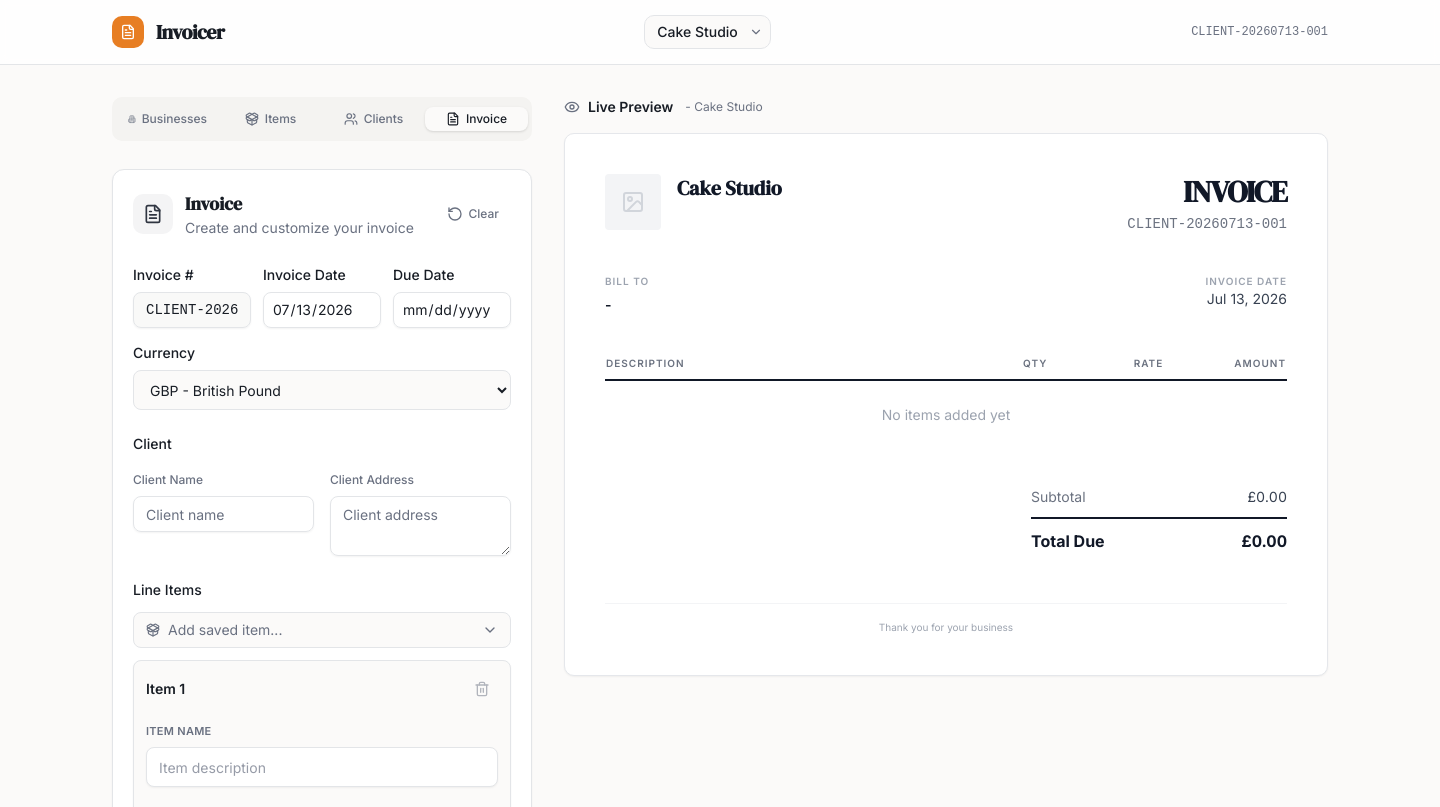
Scenario: InvoiceApp catalogue integration › returns a linked invoice line to Save item when its catalogue item is deleted
Click the button "Add saved item..." at (225, 630), box [133,612,511,648]
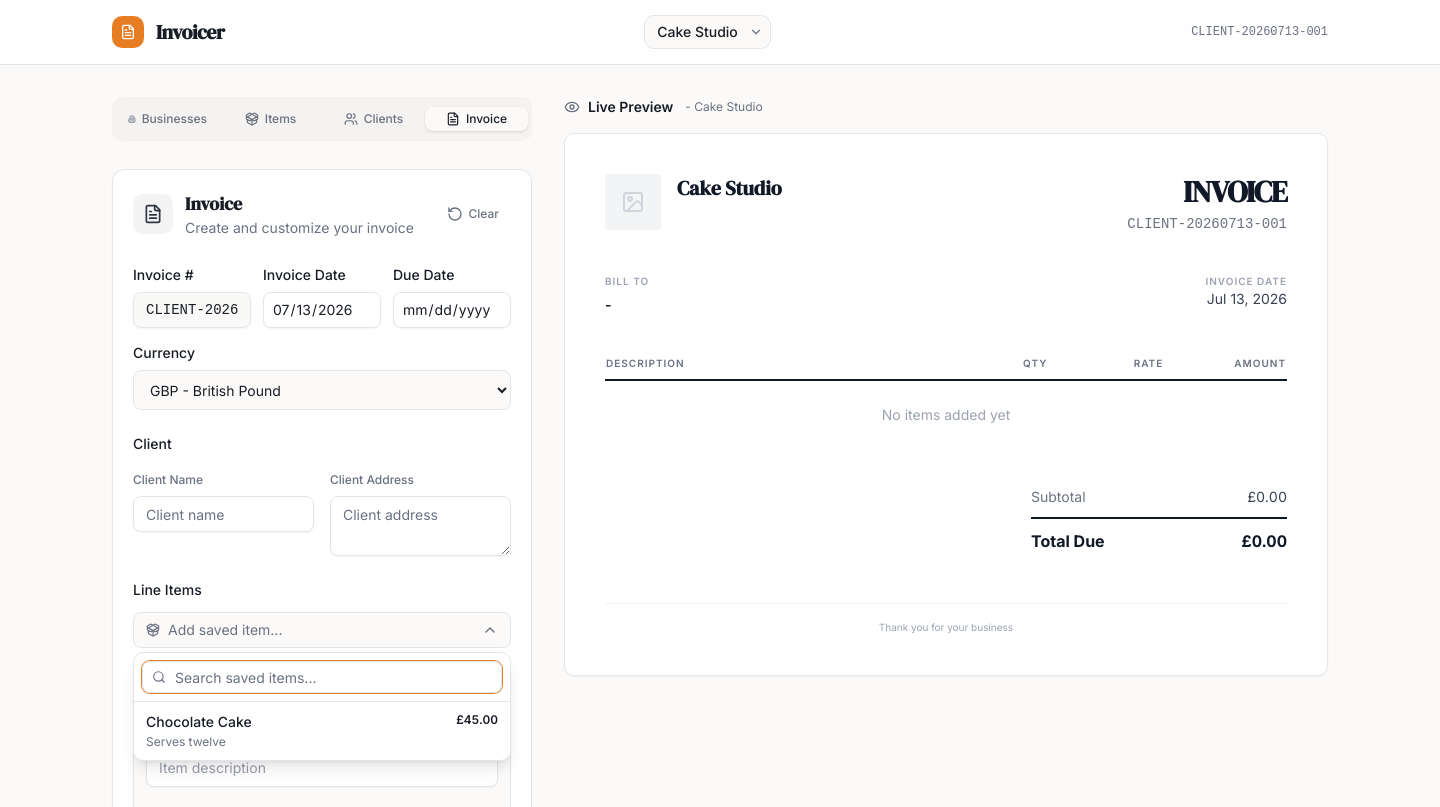
Click the option "Chocolate Cake Serves twelve £45.00" at (199, 722), box [134,702,510,760]
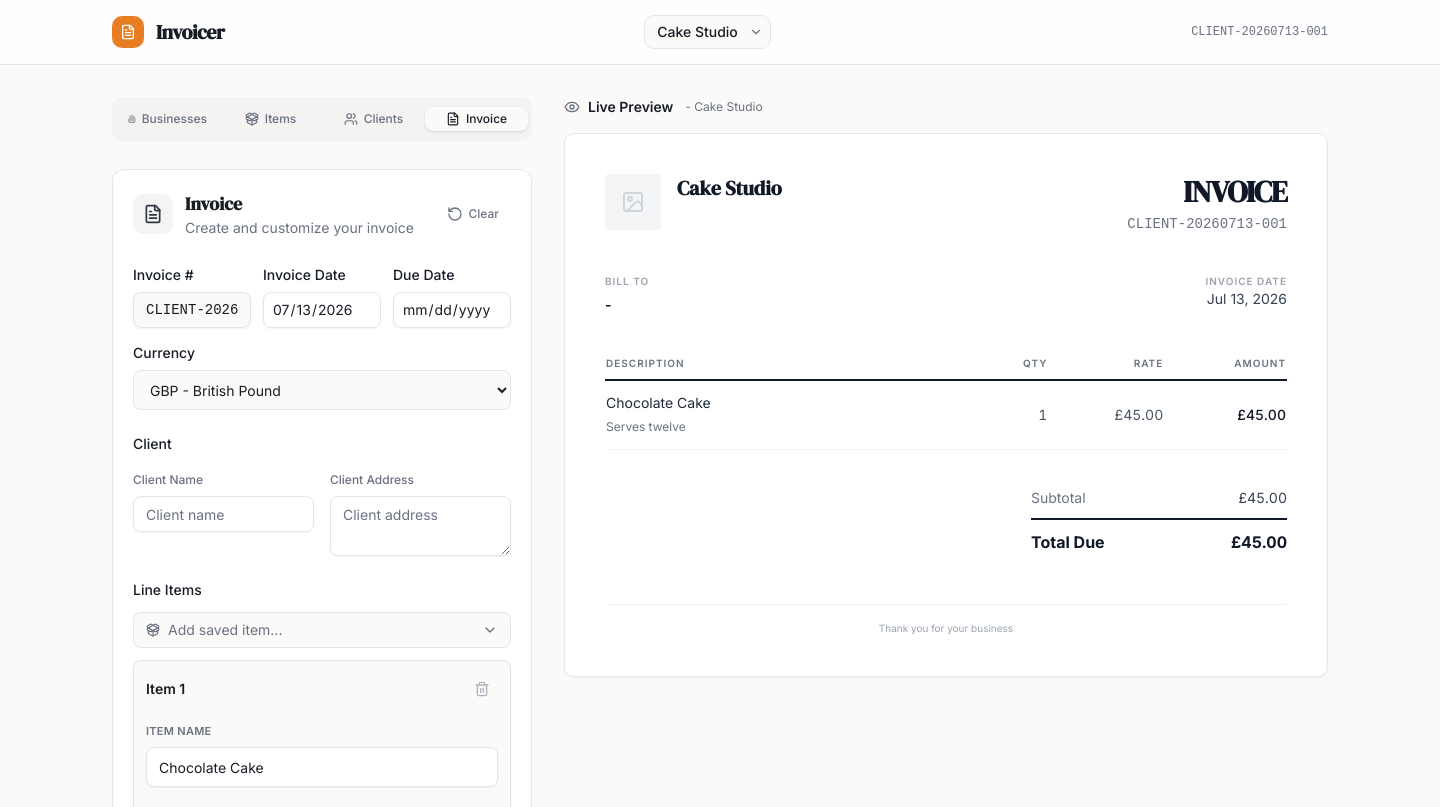
Click the tab "Items" at (270, 119), box [219,107,322,131]
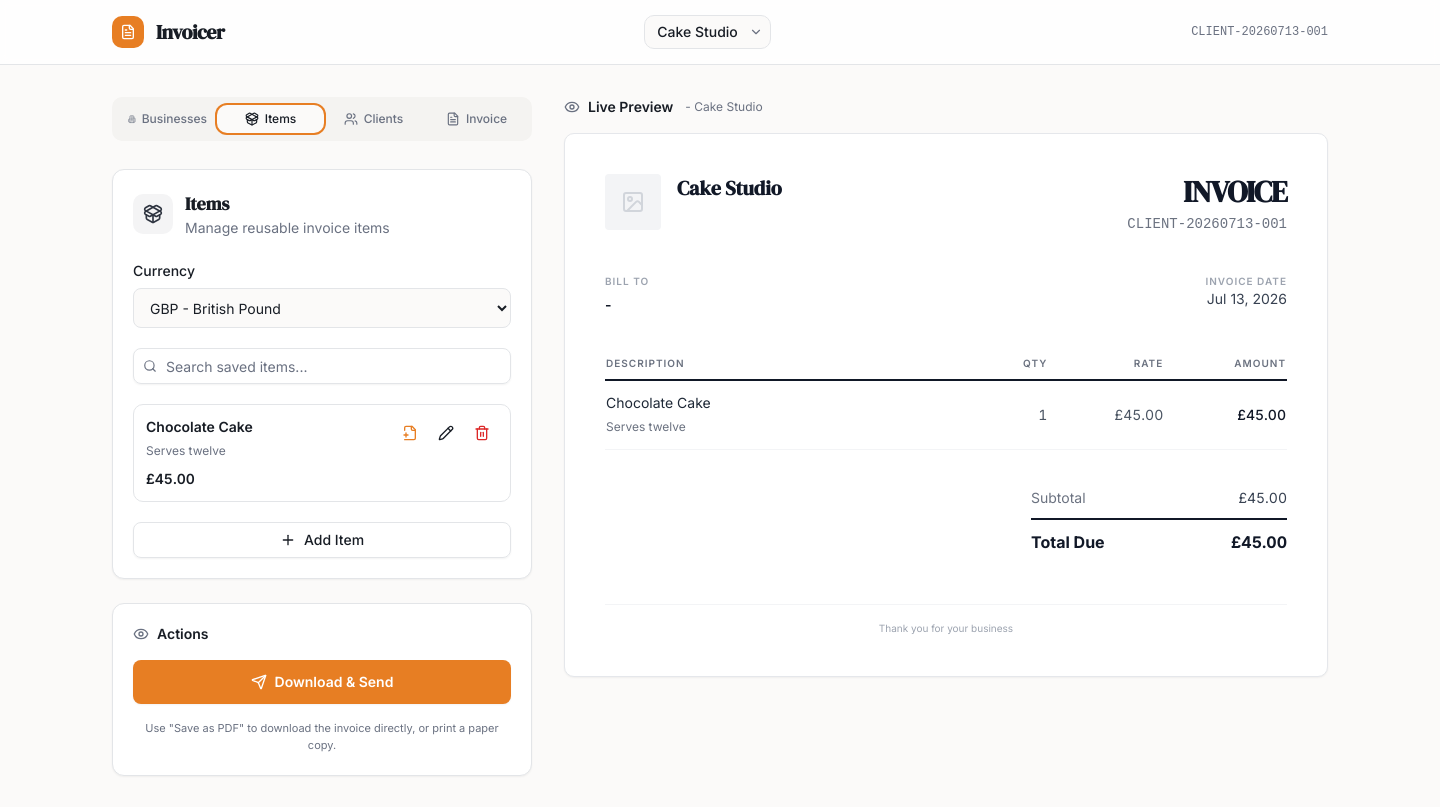
Click the button named "Delete Chocolate Cake" at (482, 433), box [466,417,498,449]
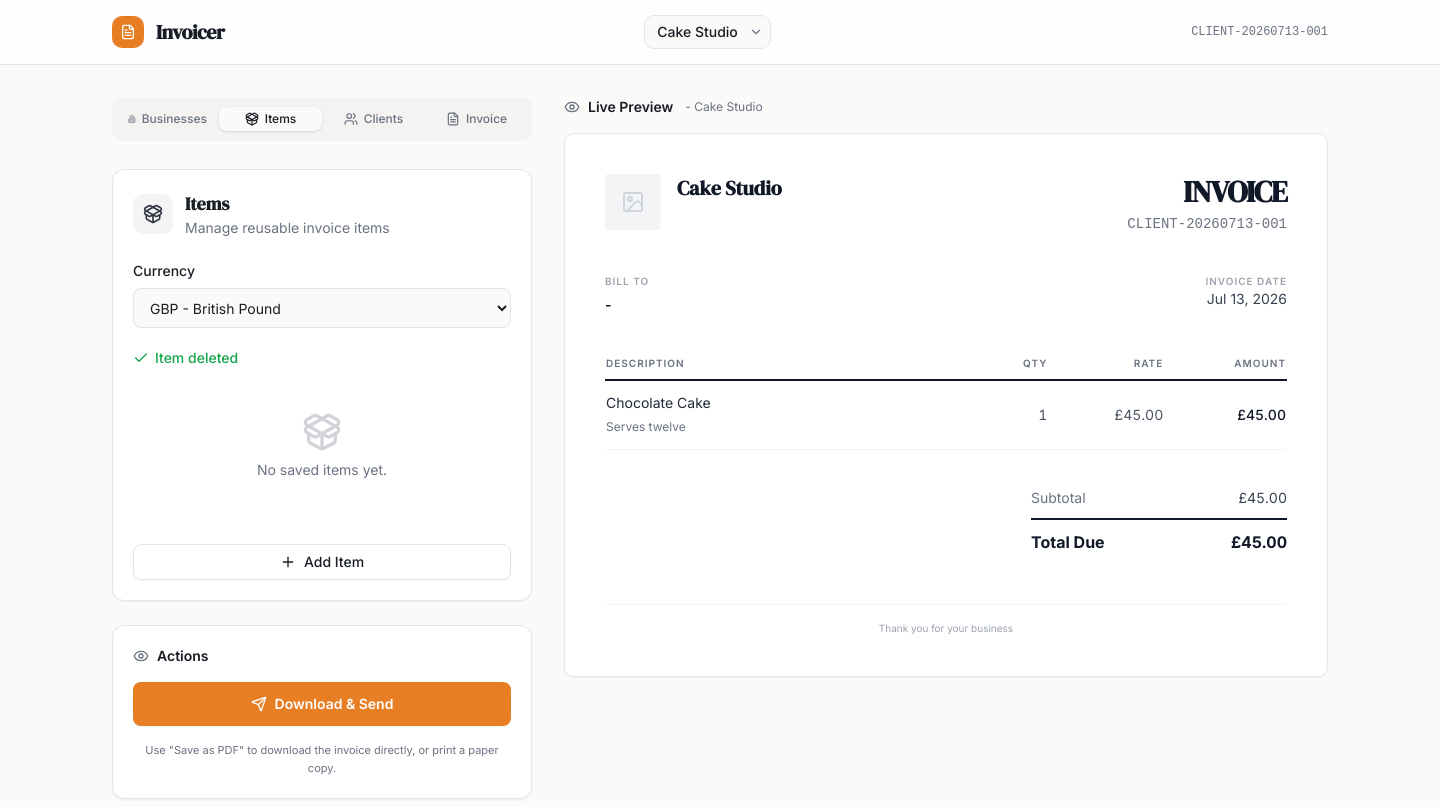
Click the tab "Invoice" at (476, 119), box [425,107,528,131]
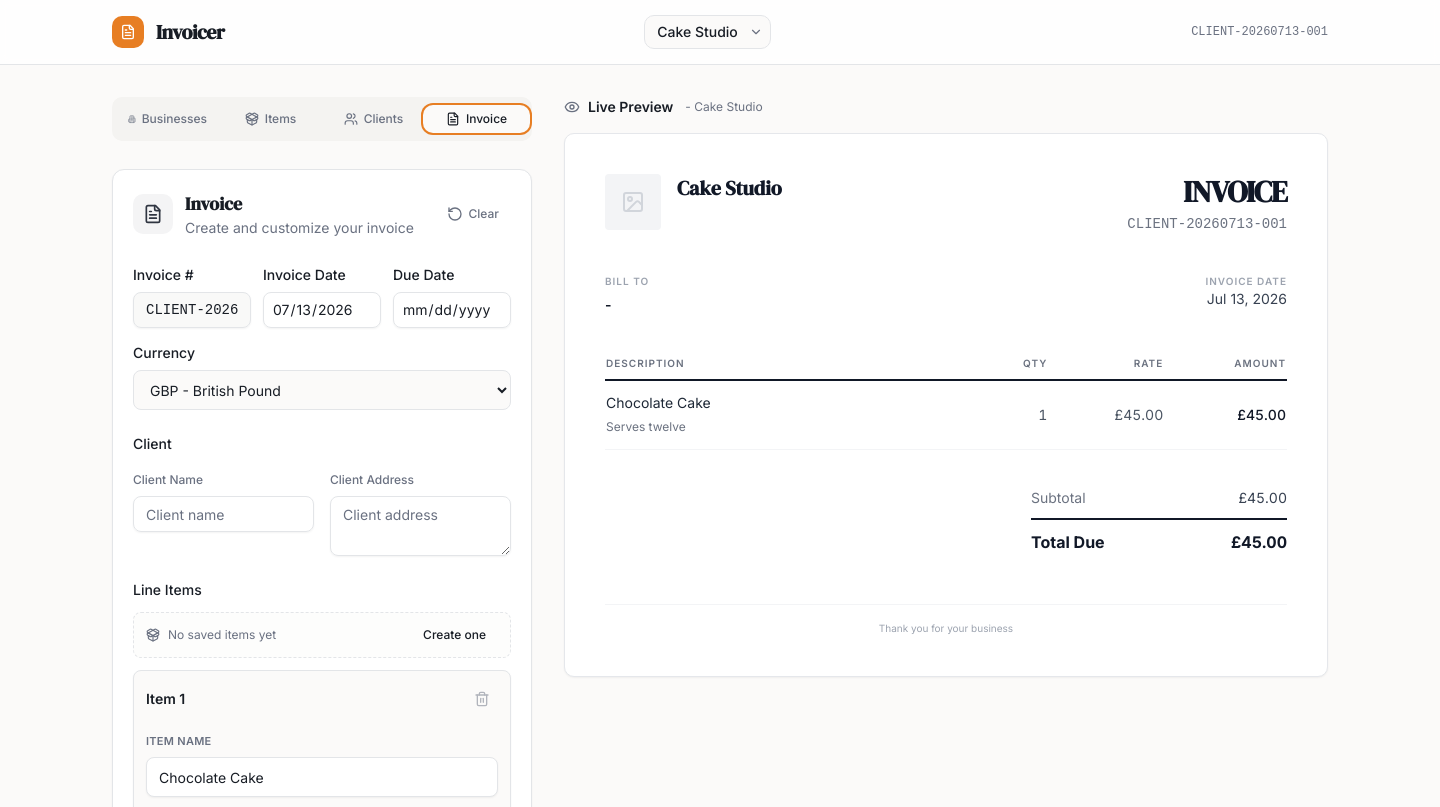
Check: the field labelled "Item name" holds "Chocolate Cake", box [146,757,498,797]
